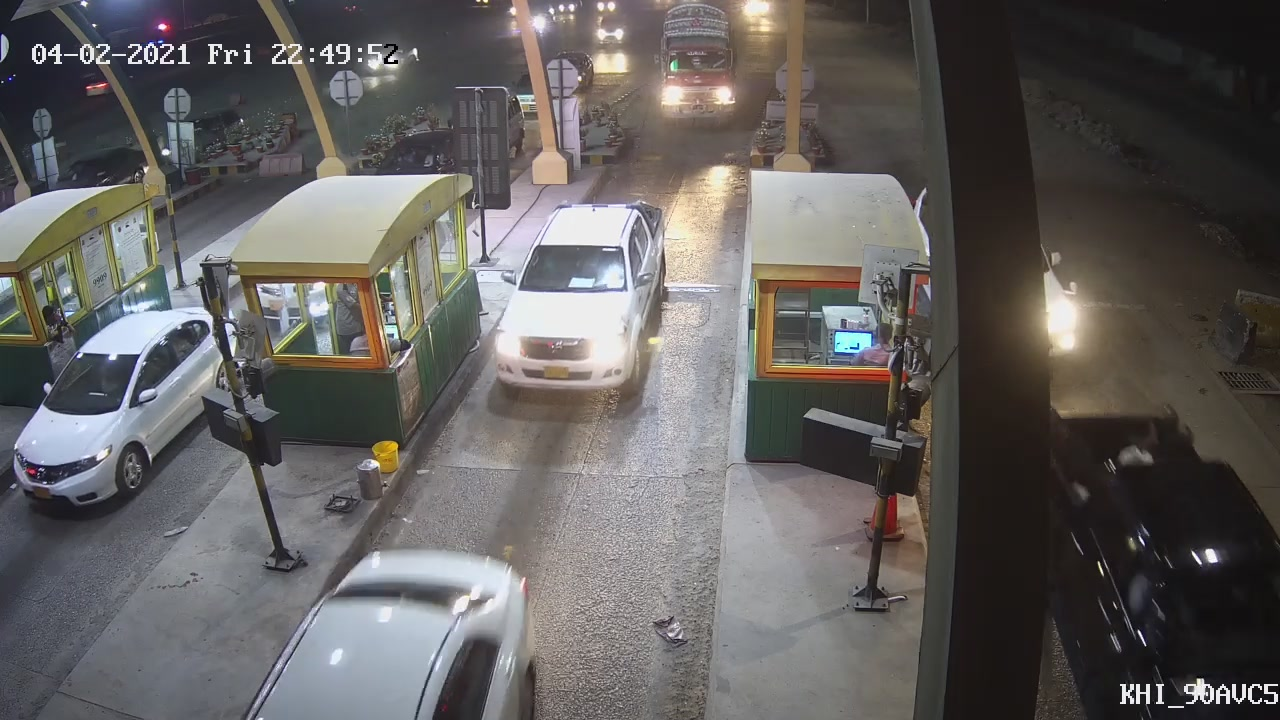F1: (490, 194, 667, 397)
